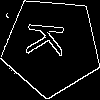K: (26, 21, 74, 58)
